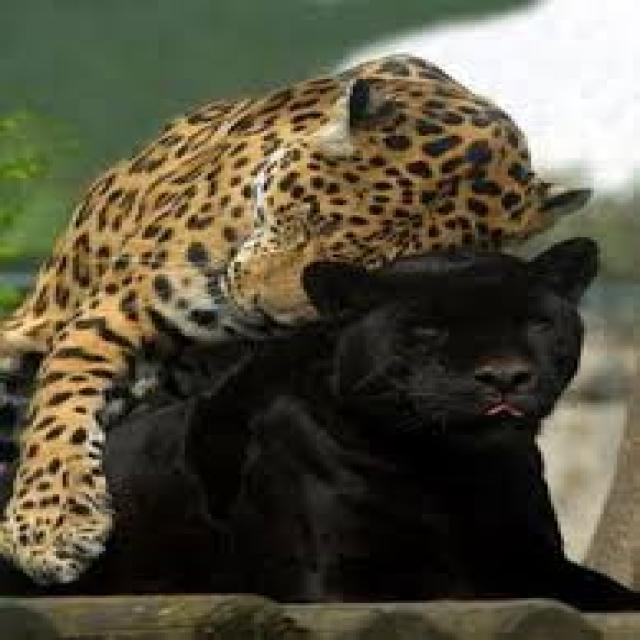Jaguar: (13, 264, 630, 613), (10, 60, 478, 452)
